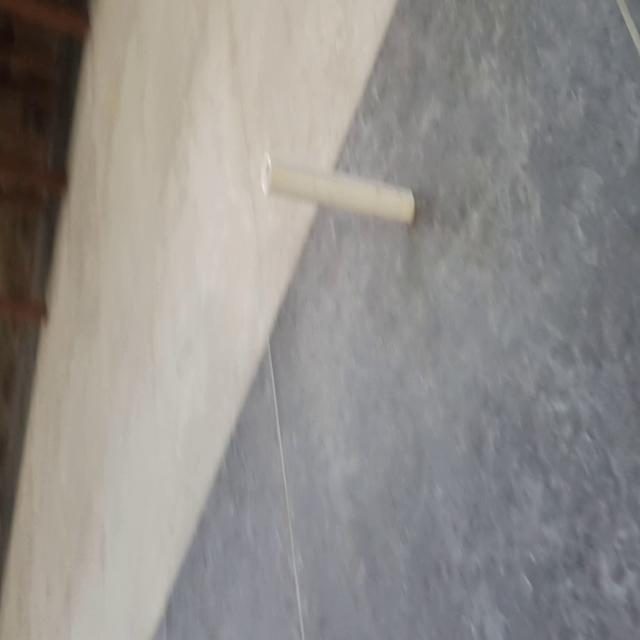Cube: (258, 153, 418, 230)
